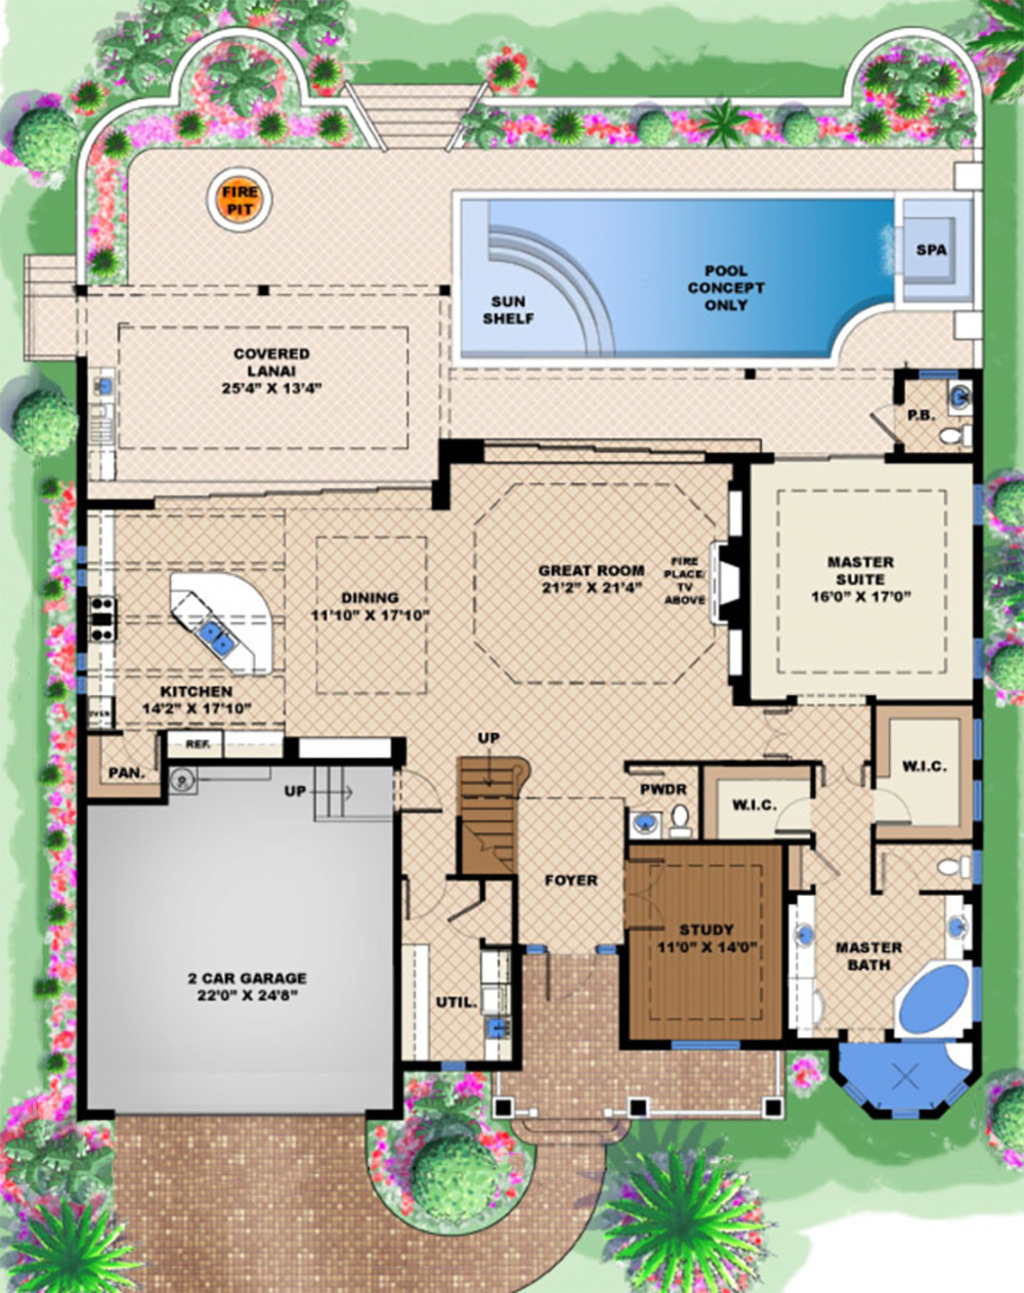door: (397, 768, 447, 826), (867, 787, 914, 833), (773, 789, 814, 839), (444, 900, 484, 944), (403, 876, 441, 920), (865, 402, 899, 446)
large_sink: (936, 416, 975, 450)
stairs: (452, 748, 522, 886), (285, 756, 390, 830)
